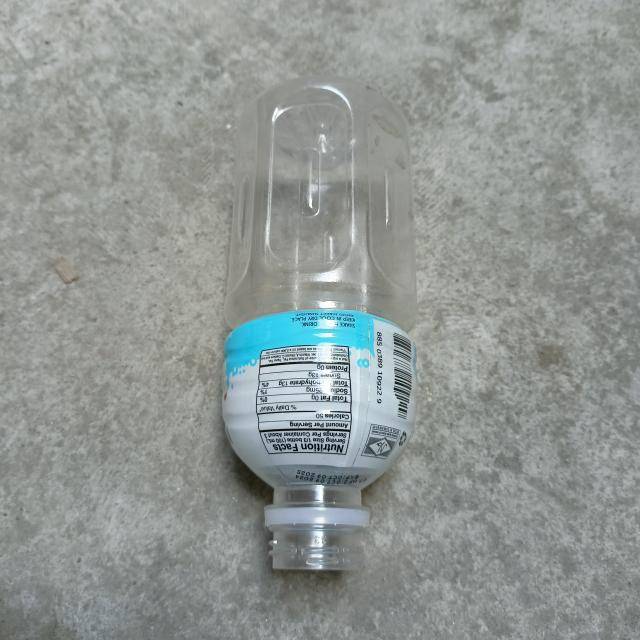Bottle: (222, 79, 416, 571)
